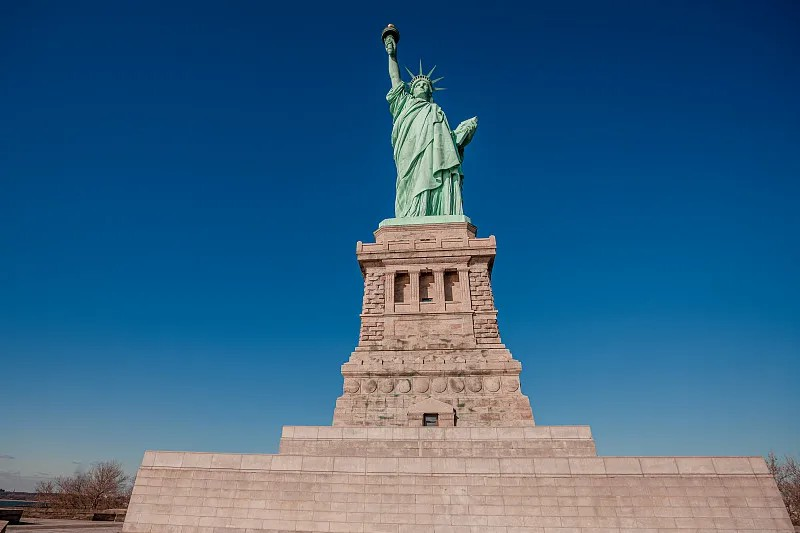SL: (332, 23, 536, 426)
